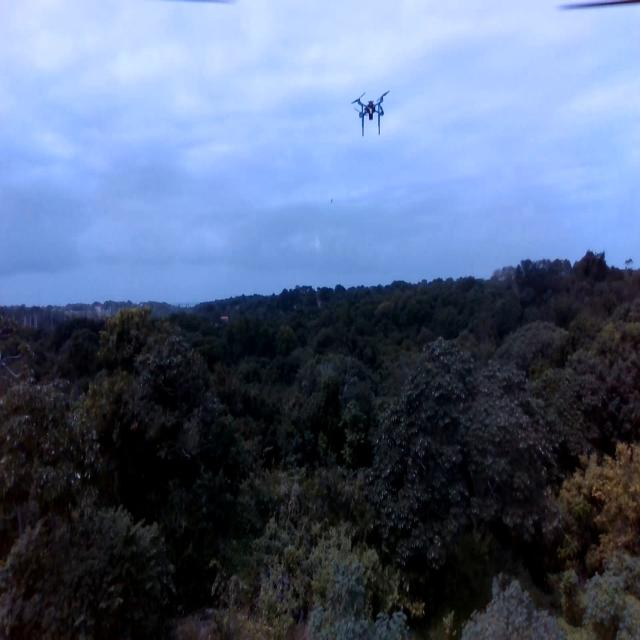-uav-: (346, 85, 396, 139)
